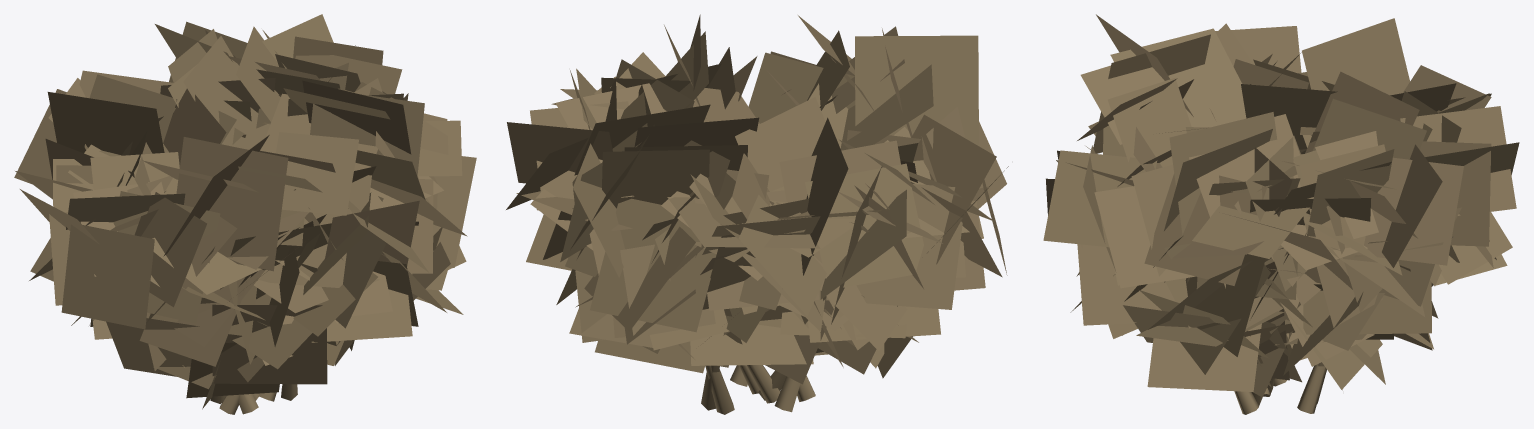
File: bush-0-lod0.glb
3 renders of one model, left to right at view 1: azimuth 30°, elevation 25°; view 2: azimuth 150°, elevation 25°; view 3: azimuth 270°, elevation 25°, orthographic. The views are drawn at different scales.
Parts seen in each view (by area): view 1: bush-0-lod0-bush-foliage, bush-0-lod0-oak-bark; view 2: bush-0-lod0-bush-foliage, bush-0-lod0-oak-bark; view 3: bush-0-lod0-bush-foliage, bush-0-lod0-oak-bark.
Boxes of the visible parts, x1,y1,x2,y2 form: bush-0-lod0-bush-foliage: (14,14,476,409); bush-0-lod0-oak-bark: (210,189,297,414); bush-0-lod0-bush-foliage: (506,14,1008,384); bush-0-lod0-oak-bark: (621,195,815,414); bush-0-lod0-bush-foliage: (1043,14,1519,397); bush-0-lod0-oak-bark: (1234,362,1326,414).
Bounding box in the file's own units: 2.2 × 1.58 × 2.09.
